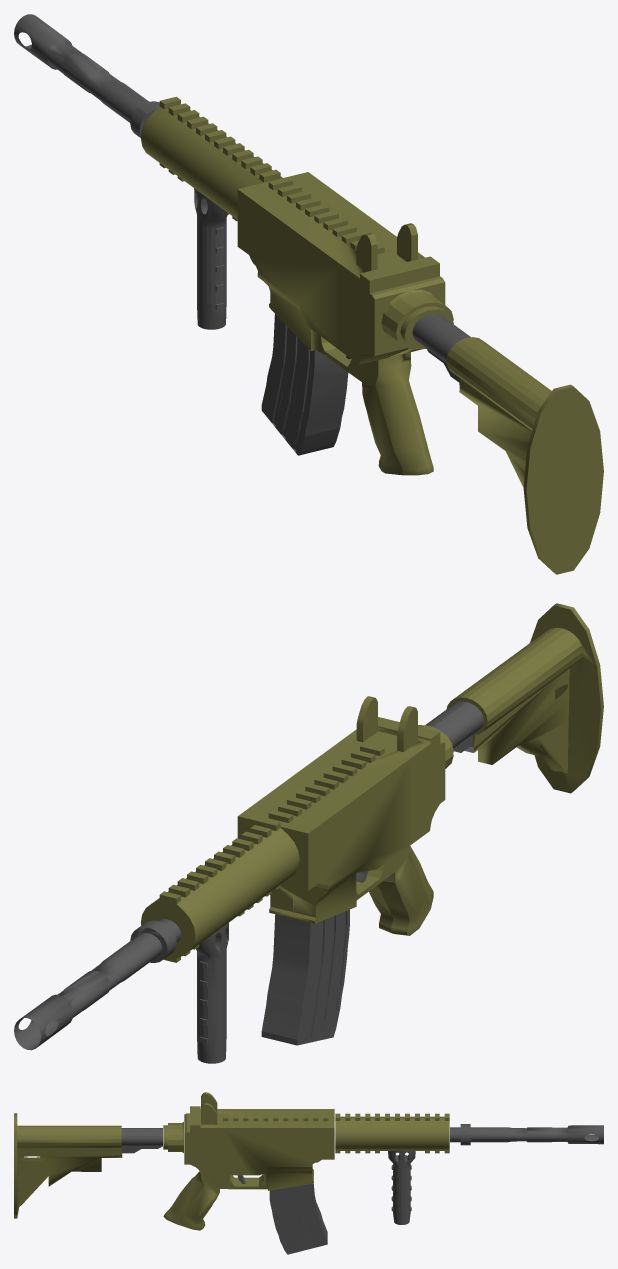
File: MachineGun.fbx
The picture shows the model from 3 angles, top to bottom: view 1: azimuth 30°, elevation 25°; view 2: azimuth 150°, elevation 25°; view 3: azimuth 270°, elevation 25°; orthographic projection. The views are drawn at different scales.
Parts seen in each view (by area): view 1: MachineGun; view 2: MachineGun; view 3: MachineGun.
Part boxes in pixels (x1,y1,x2,y2): MachineGun: (14, 14, 603, 574); MachineGun: (14, 603, 603, 1063); MachineGun: (14, 1092, 603, 1254).
Size of the model in its own units: 7.76 by 26.42 by 93.23.
